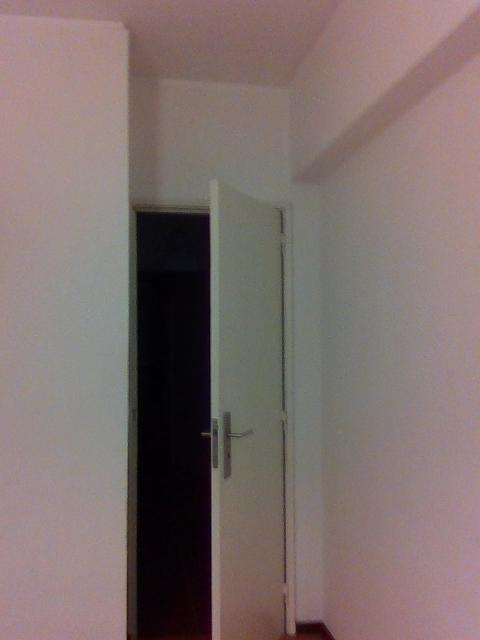semi_door: (127, 171, 296, 639)
